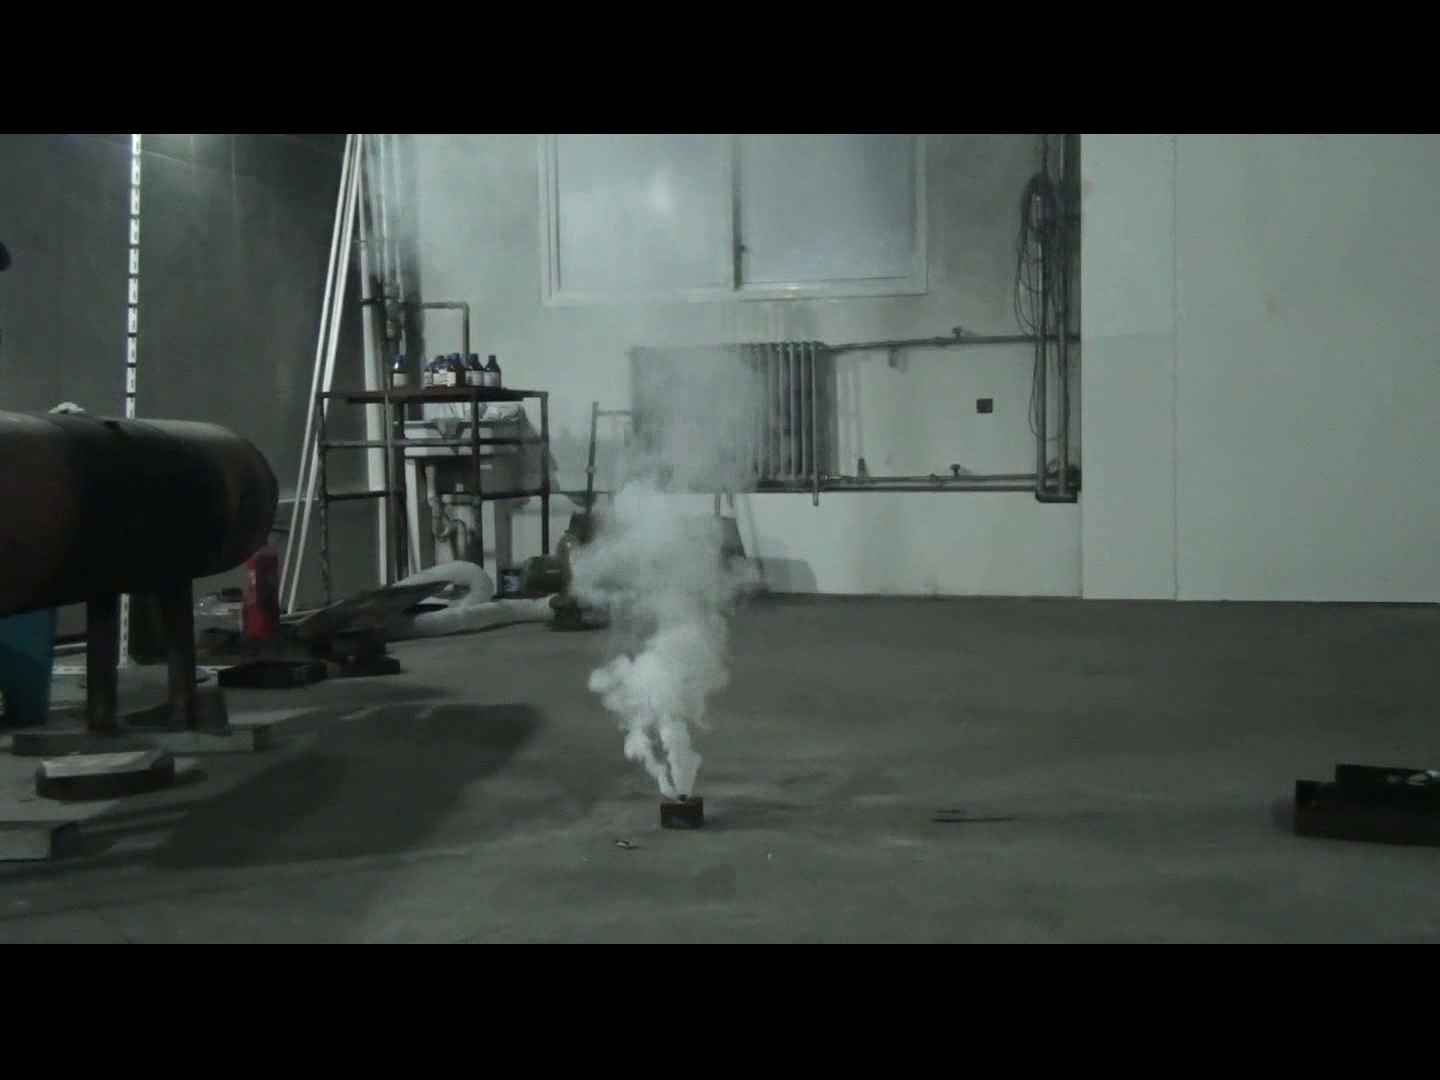smoke: (542, 294, 869, 793)
